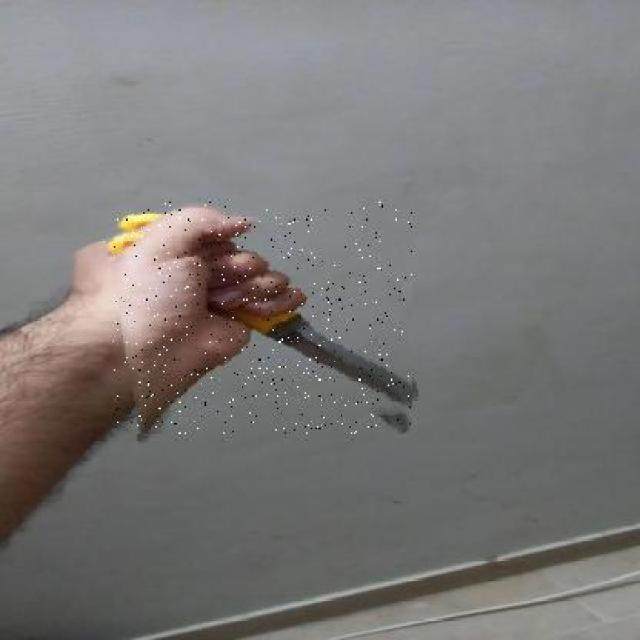knife: (112, 201, 412, 434)
